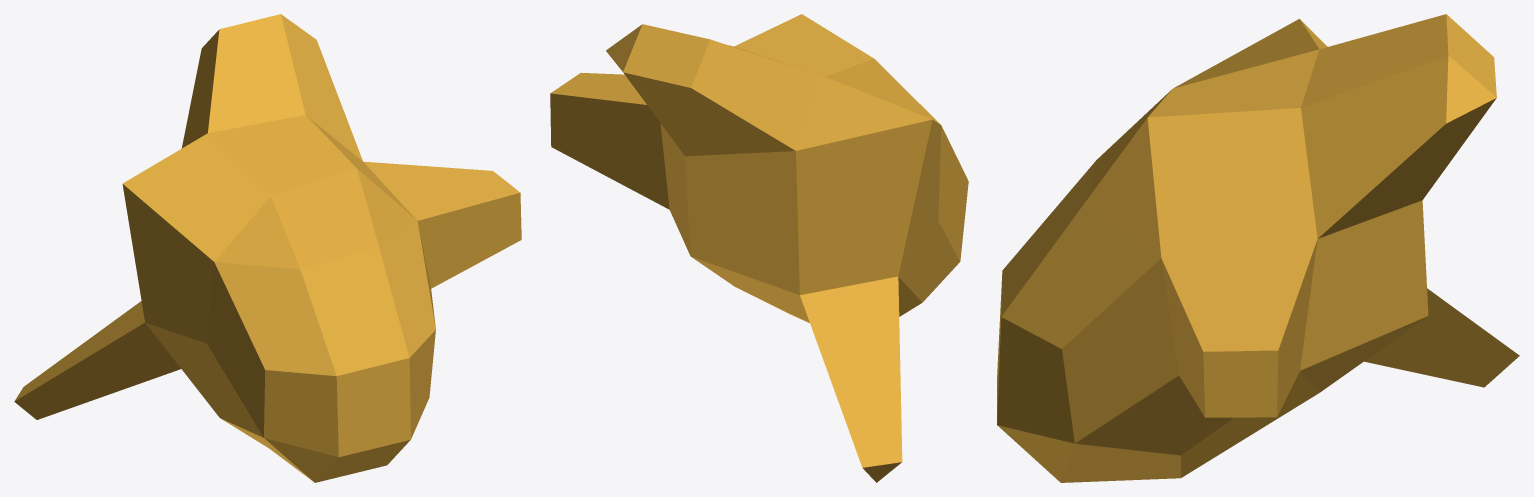
The model's file is gold_01_v1_test.glb.
The picture shows the model from 3 angles, left to right: view 1: azimuth 30°, elevation 25°; view 2: azimuth 150°, elevation 25°; view 3: azimuth 270°, elevation 25°; orthographic projection. The views are drawn at different scales.
Parts seen in each view (by area): view 1: Cube; view 2: Cube; view 3: Cube.
Boxes of the visible parts, x1,y1,x2,y2 form: Cube: (14,14,521,482); Cube: (550,14,968,482); Cube: (997,14,1519,482).
Bounding box in the file's own units: 0.1635 × 0.1392 × 0.1363.
